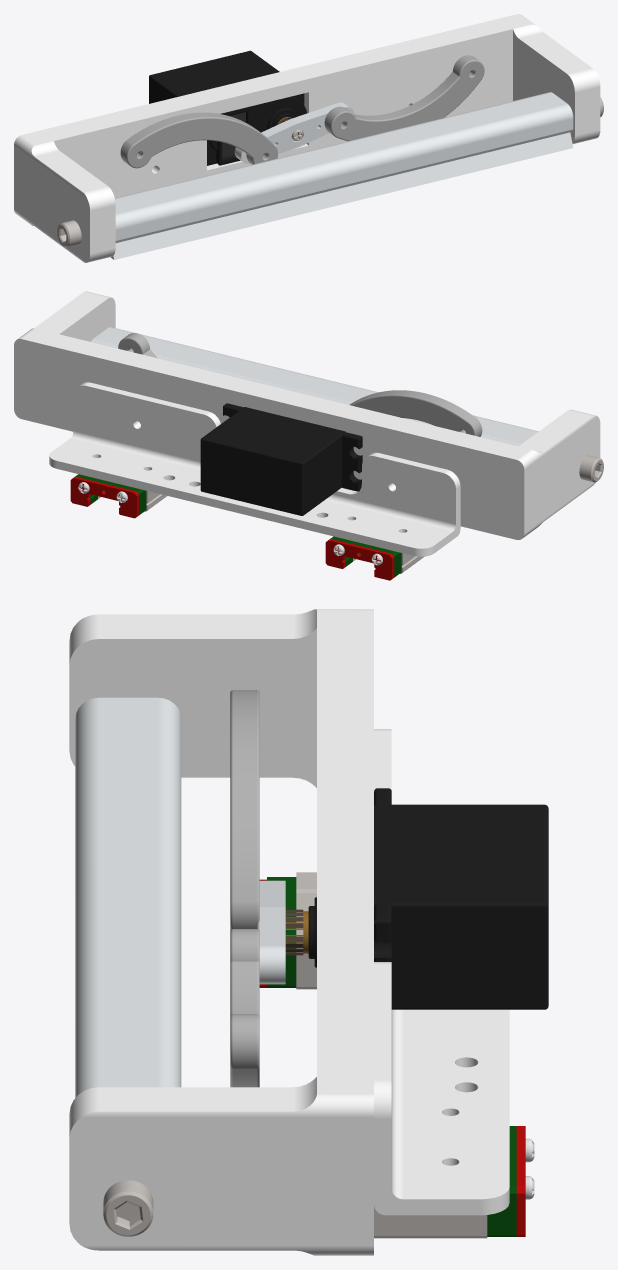
The model's file is mast_gripper.dae.
The picture shows the model from 3 angles, top to bottom: view 1: azimuth 30°, elevation 25°; view 2: azimuth 150°, elevation 25°; view 3: azimuth 270°, elevation 25°; orthographic projection. The views are drawn at different scales.
Parts seen in each view (by area): view 1: Body_29, Body_28, _3DGeom-665, Body_30, Body_46, Body_32, Body_47; view 2: Body_29, Body_27, _3DGeom-665, Body_28, Body_30, Body_26, Body_13, Body_46, Body_47, Body_11, Body_24; view 3: Body_29, Body_28, _3DGeom-665, Body_27, Body_30, Body_46, Body_32, _3DGeom-28, Body_48, Body_11, _3DGeom-248, Body_13 (+1 smaller).
Part boxes in pixels (bbox=[...]): Body_29: bbox=[14, 14, 600, 262]; Body_28: bbox=[110, 92, 573, 259]; _3DGeom-665: bbox=[149, 50, 306, 165]; Body_30: bbox=[120, 112, 277, 168]; Body_46: bbox=[324, 55, 484, 141]; Body_32: bbox=[234, 102, 354, 163]; Body_47: bbox=[57, 220, 81, 247]; Body_29: bbox=[14, 291, 600, 539]; Body_27: bbox=[49, 382, 460, 556]; _3DGeom-665: bbox=[200, 403, 362, 515]; Body_28: bbox=[91, 327, 538, 446]; Body_30: bbox=[349, 390, 482, 436]; Body_26: bbox=[325, 538, 394, 580]; Body_13: bbox=[70, 476, 138, 518]; Body_46: bbox=[118, 333, 157, 358]; Body_47: bbox=[579, 455, 603, 482]; Body_11: bbox=[75, 474, 146, 515]; Body_24: bbox=[331, 536, 401, 577]; Body_29: bbox=[69, 609, 373, 1255]; Body_28: bbox=[75, 697, 181, 1097]; _3DGeom-665: bbox=[308, 788, 548, 1009]; Body_27: bbox=[374, 729, 509, 1215]; Body_30: bbox=[230, 690, 259, 930]; Body_46: bbox=[230, 929, 259, 1087]; Body_32: bbox=[259, 880, 285, 984]; _3DGeom-28: bbox=[374, 1205, 487, 1238]; Body_48: bbox=[103, 1180, 153, 1236]; Body_11: bbox=[487, 1126, 516, 1236]; _3DGeom-248: bbox=[296, 872, 316, 989]; Body_13: bbox=[516, 1126, 525, 1236].
Bounding box in the file's own units: 0.21 × 0.0813 × 0.0466.
